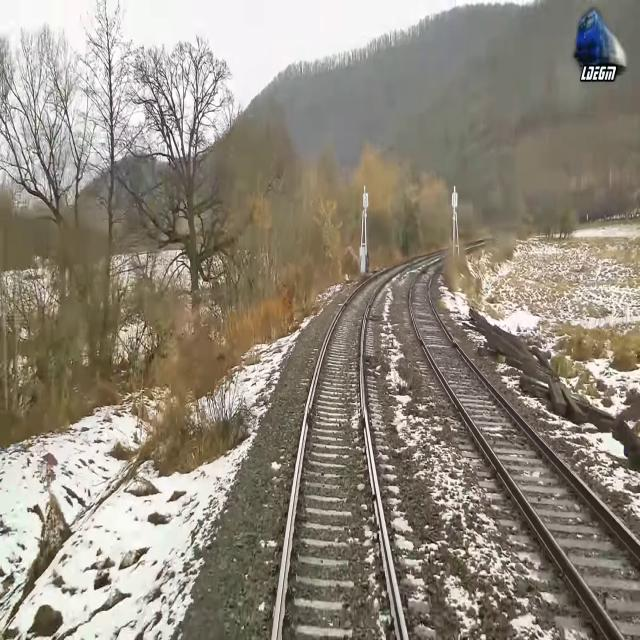rail-track: (410, 254, 640, 639), (276, 256, 423, 639), (454, 249, 468, 257)
